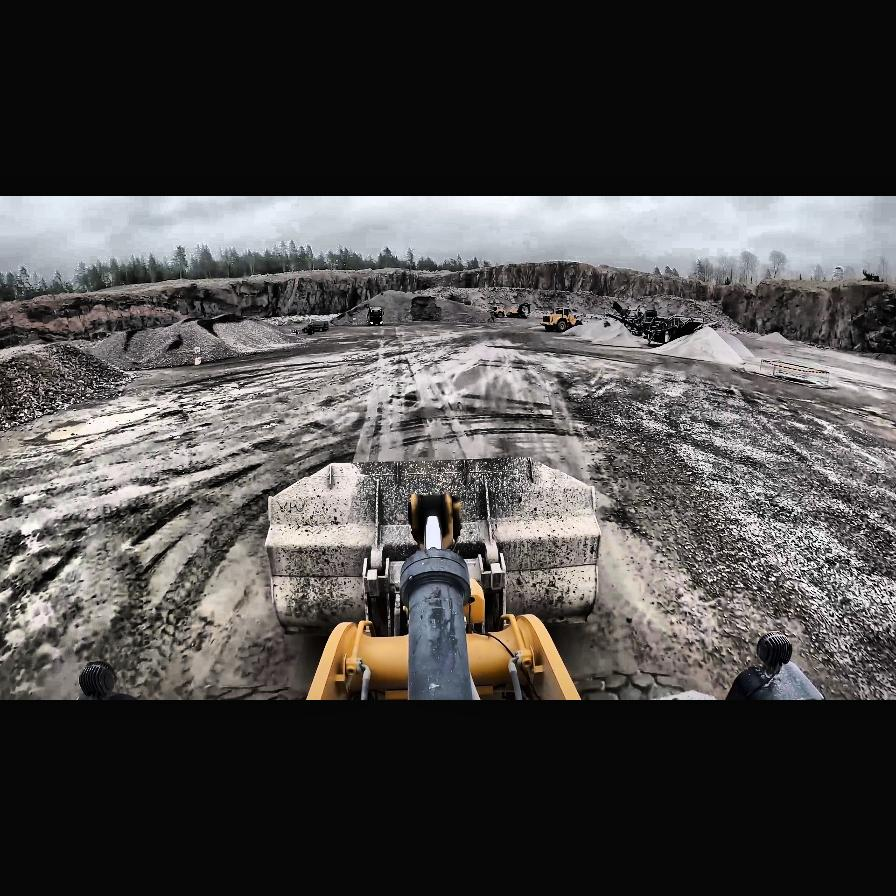anchor: (407, 493, 457, 551)
pile of gravel: (84, 312, 308, 370), (1, 340, 135, 432), (421, 282, 588, 326), (644, 324, 756, 370), (668, 295, 742, 332), (346, 291, 426, 323), (410, 294, 490, 322), (335, 300, 375, 324), (756, 332, 796, 346)
